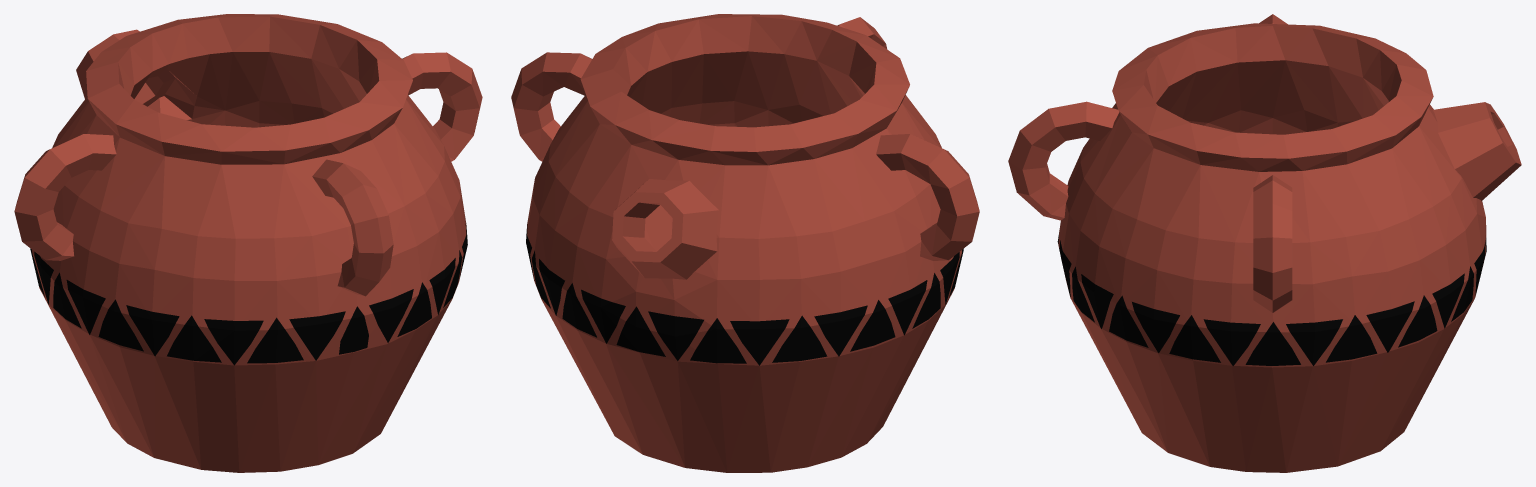
Rendered from Pottery 18_3.fbx.
3 views of the same model, side by side, from view 1: azimuth 30°, elevation 25°; view 2: azimuth 150°, elevation 25°; view 3: azimuth 270°, elevation 25° (orthographic). The views are drawn at different scales.
Parts seen in each view (by area): view 1: Pottery 18_3; view 2: Pottery 18_3; view 3: Pottery 18_3.
Part boxes in pixels (left/top/right/bottom): Pottery 18_3: left=14, top=14, right=482, bottom=472; Pottery 18_3: left=511, top=14, right=979, bottom=472; Pottery 18_3: left=1008, top=14, right=1521, bottom=472.
Size of the model in its own units: 91.31 by 63.77 by 88.61.
